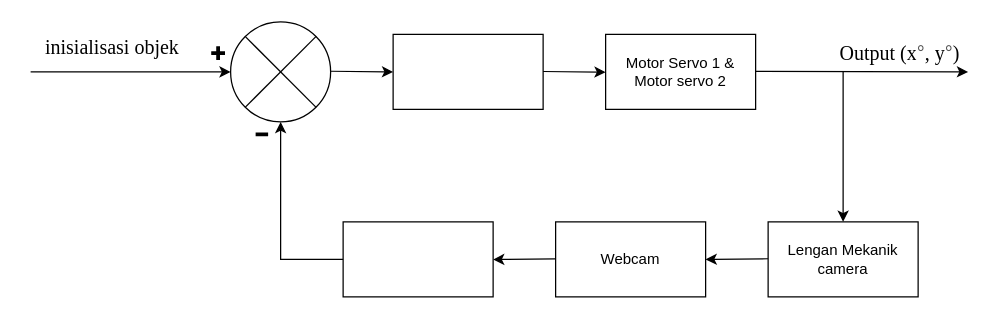
Image size: 1000x319. Some labels were removed from this diagram. The centre of each missing label's shape, as x and y in pixels:
"Kontrol Motor" belongs at point 467,71.
"Tracking Object" belongs at point 417,259.
